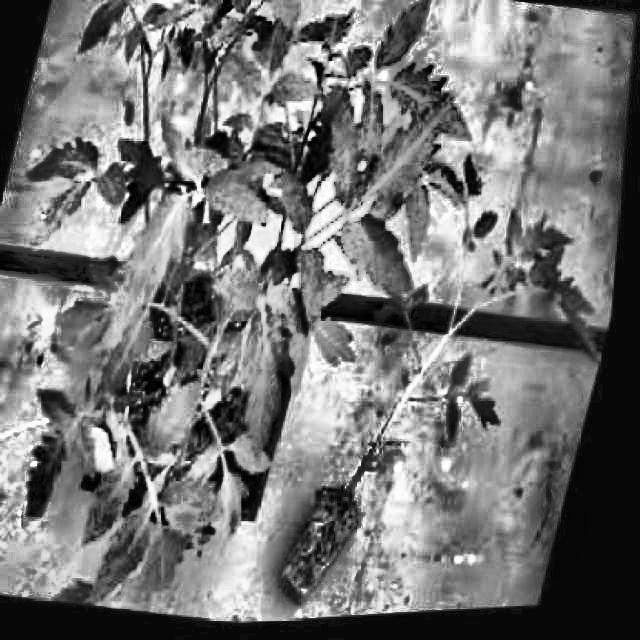plants: (0, 0, 478, 581), (284, 187, 624, 624)
